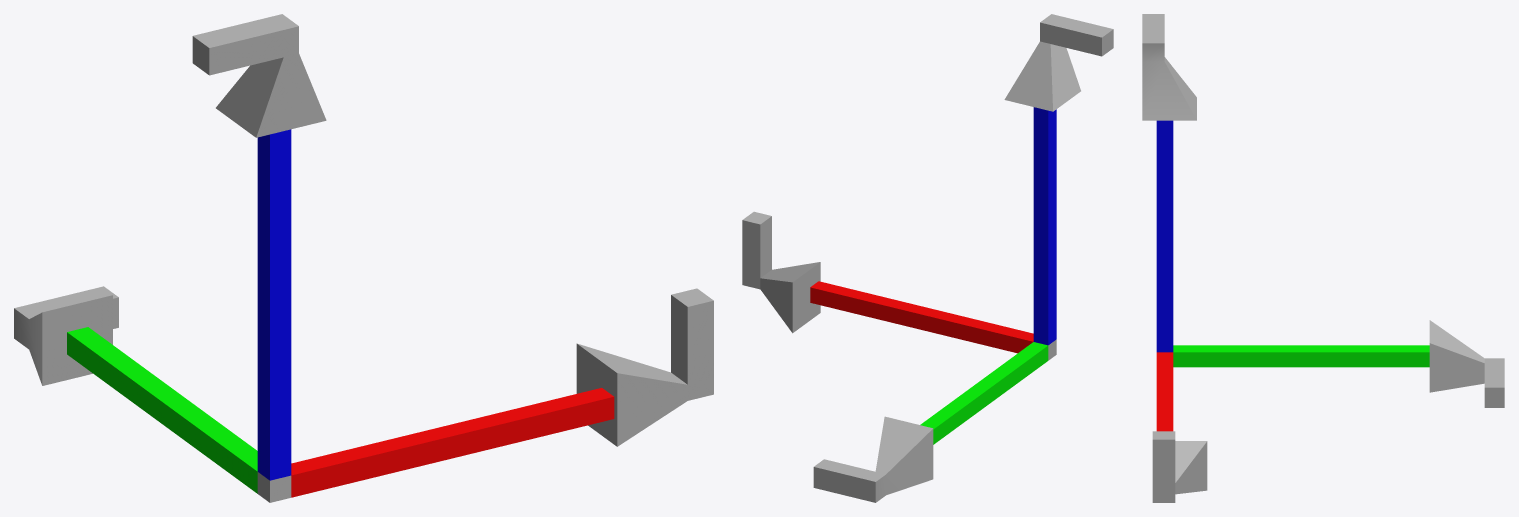
Rendered from simple_000_Translation_00.dae.
The picture shows the model from 3 angles, left to right: view 1: azimuth 30°, elevation 25°; view 2: azimuth 150°, elevation 25°; view 3: azimuth 270°, elevation 25°; orthographic projection. The views are drawn at different scales.
Parts seen in each view (by area): view 1: pCube2, pCube1, pCube4, pCube3; view 2: pCube2, pCube3, pCube4, pCube1; view 3: pCube2, pCube4, pCube3, pCube1.
Part boxes in pixels (box(x1,y1,x2,y2)): pCube2: box(67, 129, 614, 502); pCube1: box(576, 288, 713, 446); pCube4: box(192, 14, 326, 137); pCube3: box(14, 286, 118, 385); pCube2: box(810, 107, 1056, 444); pCube3: box(813, 416, 933, 502); pCube4: box(1004, 14, 1113, 111); pCube1: box(742, 211, 820, 333); pCube2: box(1156, 120, 1429, 431); pCube4: box(1142, 14, 1196, 120); pCube3: box(1429, 320, 1504, 407); pCube1: box(1152, 431, 1207, 502).
Bounding box in the file's own units: 11.85 × 10.8 × 11.18.
